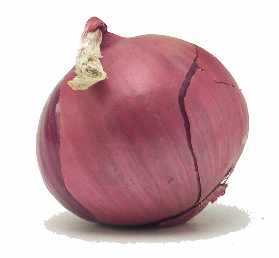onion: (33, 18, 250, 231)
